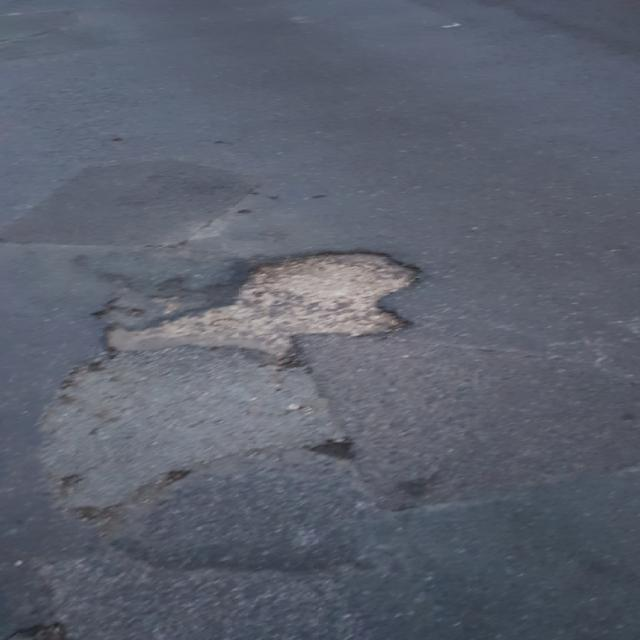Pothole: (102, 247, 434, 372)
